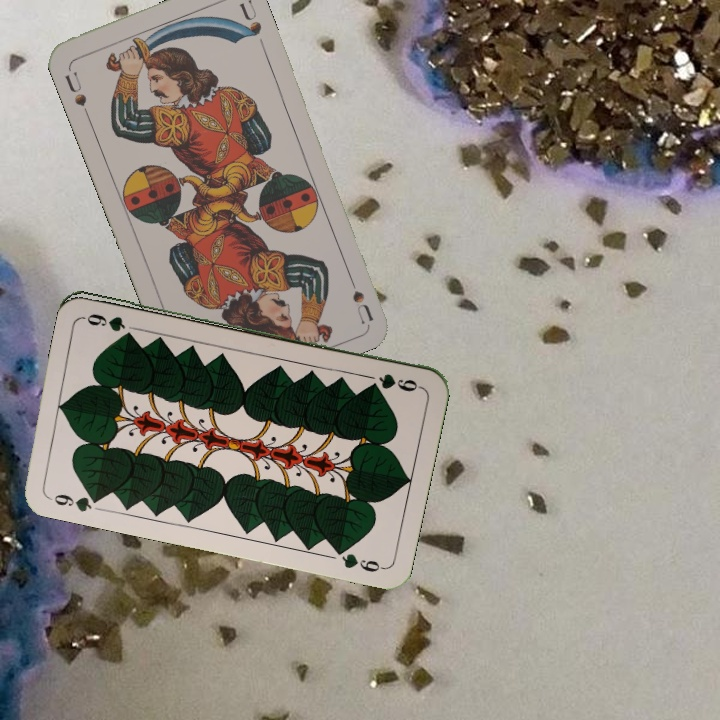G9: (43, 490, 104, 515), (374, 369, 424, 394)
SU: (342, 266, 375, 325), (61, 67, 93, 121)
